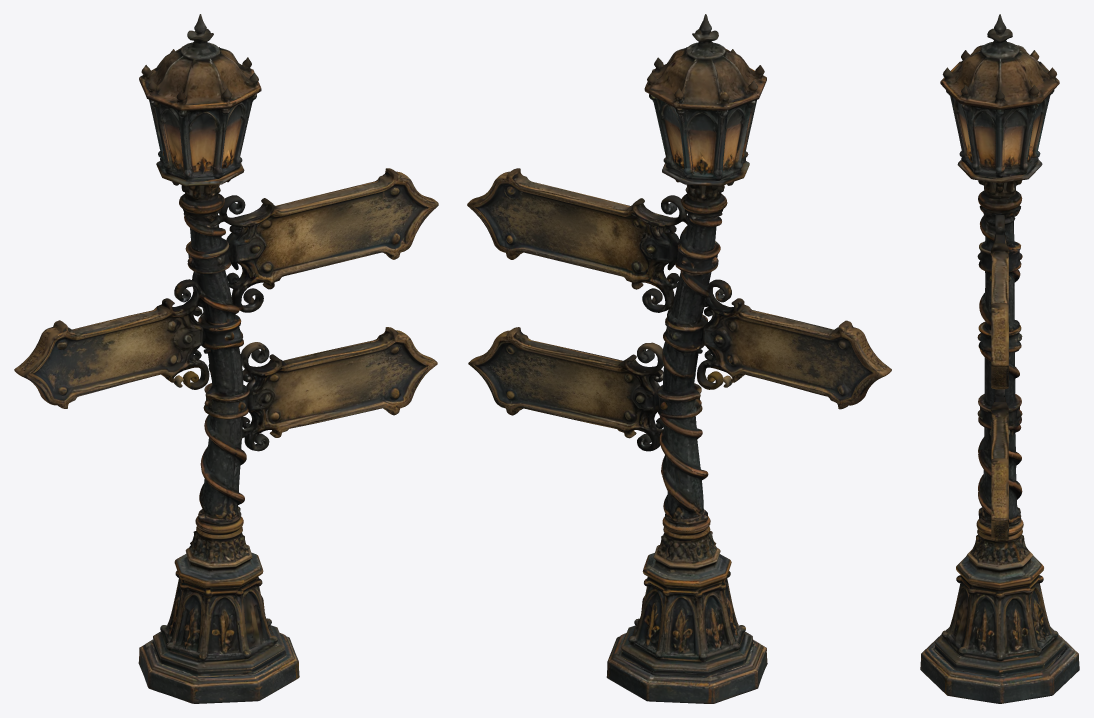
The model's file is victorian-street-lamp.glb.
3 views of the same model, side by side, from view 1: azimuth 30°, elevation 25°; view 2: azimuth 150°, elevation 25°; view 3: azimuth 270°, elevation 25° (orthographic). The views are drawn at different scales.
Visible parts, largest first — view 1: node_0; view 2: node_0; view 3: node_0.
Part boxes in pixels (x1,y1,x2,y2): node_0: (14, 14, 438, 703); node_0: (467, 14, 891, 703); node_0: (920, 14, 1079, 703).
Bounding box in the file's own units: 0.7706 × 1.17 × 0.2599.
Materials: 1 (1 with a texture image).
